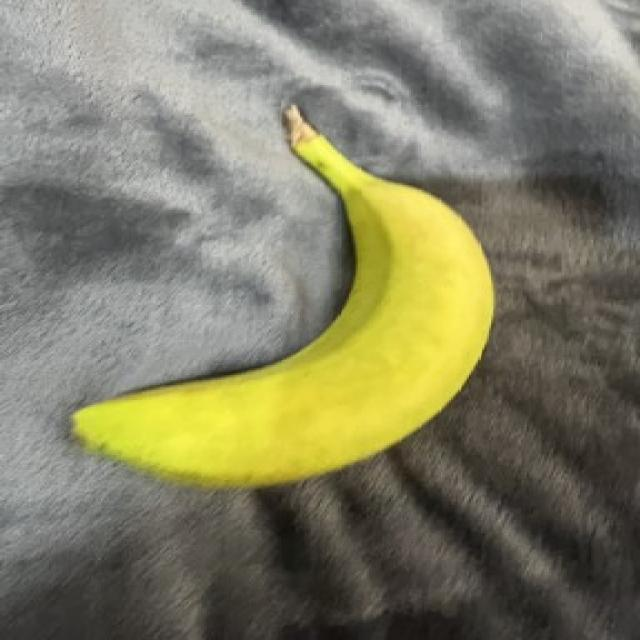Unripe: (39, 101, 532, 497)
